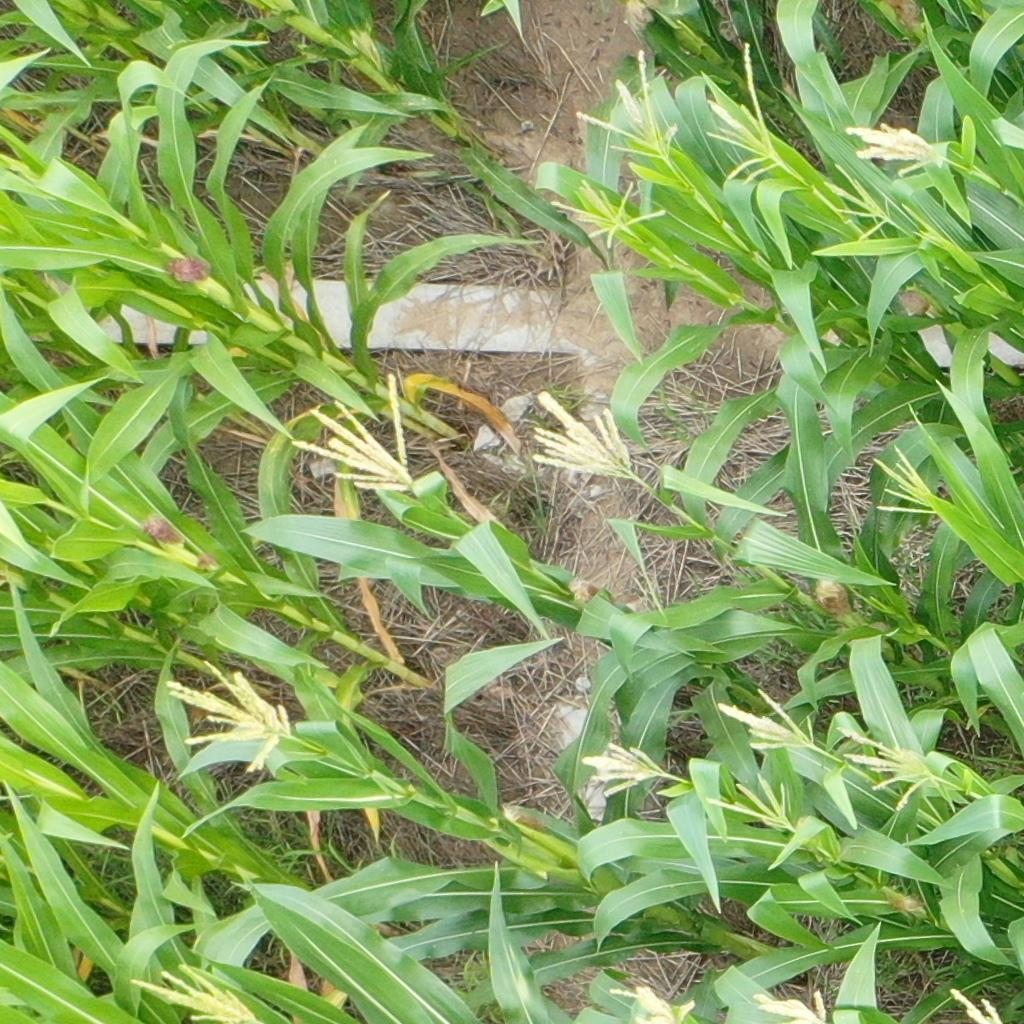Tassel: (288, 373, 417, 493), (163, 659, 292, 769), (705, 42, 787, 182), (576, 49, 678, 160), (836, 725, 956, 811), (530, 390, 637, 480), (551, 176, 667, 250), (131, 965, 266, 1024), (717, 688, 816, 752), (704, 772, 799, 833), (824, 164, 896, 244), (845, 123, 949, 177), (871, 445, 942, 519), (582, 741, 666, 799), (604, 981, 696, 1024), (751, 987, 830, 1024), (951, 987, 1003, 1024), (903, 205, 948, 247)
